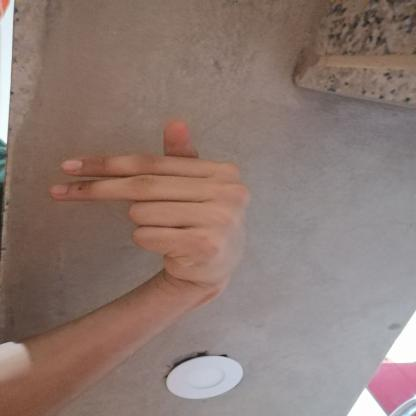GHAYN: (34, 111, 262, 294)
